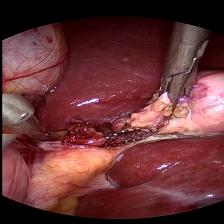Grasper: (154, 26, 208, 120)
Scissors: (0, 94, 45, 134)
